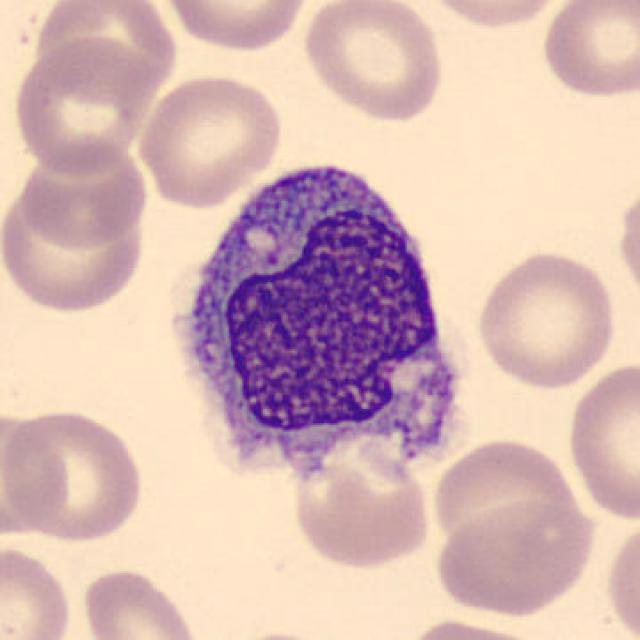Monocyte: (156, 147, 474, 498)
RBC: (283, 426, 437, 574), (427, 433, 590, 568), (471, 245, 621, 391), (430, 495, 601, 619), (11, 34, 158, 176), (134, 71, 286, 208), (6, 404, 148, 546), (0, 187, 149, 314), (298, 0, 448, 123), (14, 138, 151, 252), (32, 2, 183, 102), (564, 356, 638, 526), (536, 0, 638, 100), (76, 564, 208, 640), (0, 408, 75, 540), (154, 0, 314, 53), (0, 539, 74, 640), (418, 0, 574, 32), (602, 515, 640, 640), (394, 613, 558, 640), (613, 180, 640, 310), (204, 627, 350, 640)
